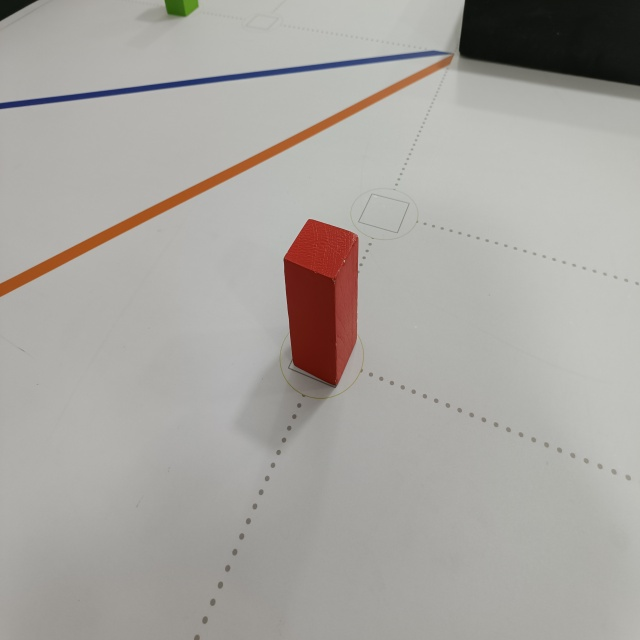blue line: (0, 43, 443, 117)
green rectangular prism: (158, 0, 206, 23)
orange line: (0, 52, 458, 304)
red rectangular prism: (279, 215, 360, 394)
